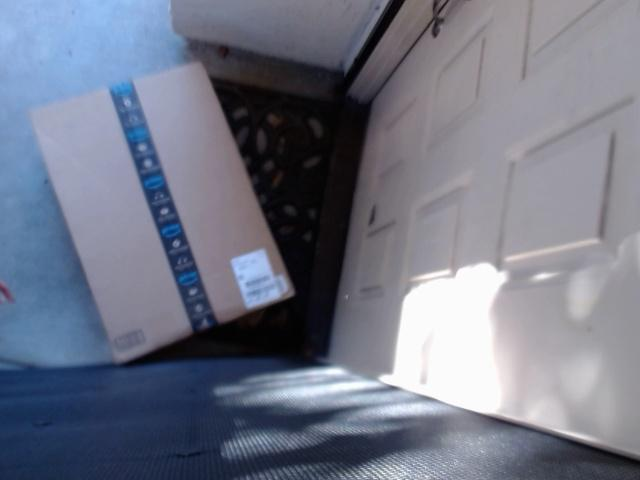box: (15, 63, 304, 367)
